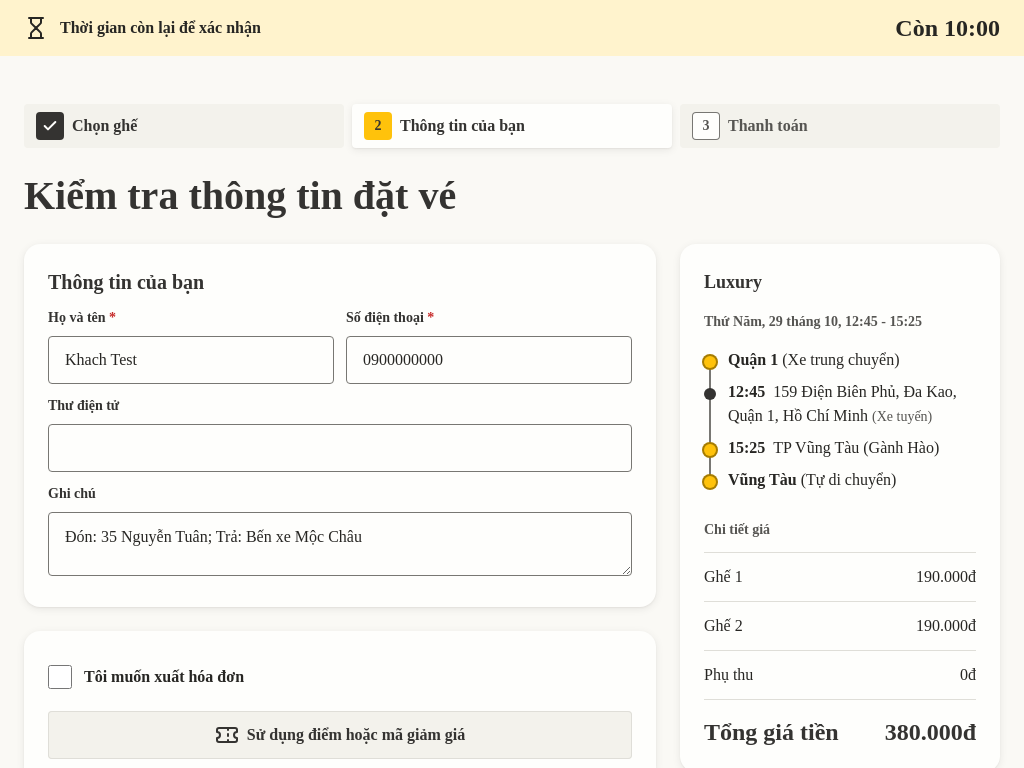
Tự áp mã chương trình ở bước xác nhận › tìm chuyến theo tuyến chính: ghi chú điền sẵn 'Đón: …; Trả: …', khách sửa được
Type " - cổng B" into the text box showing "Đón: 35 Nguyễn Tuân; Trả: Bến xe Mộc Châu" at (340, 544), box [48, 512, 632, 576]
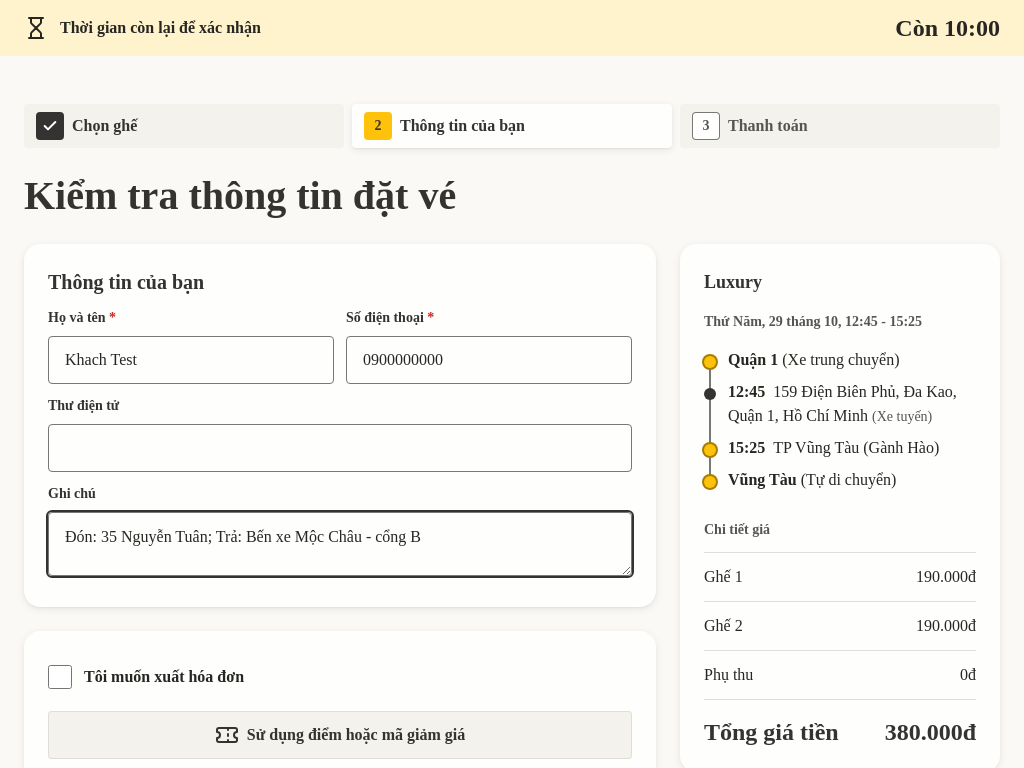
Now the text box showing "Đón: 35 Nguyễn Tuân; Trả: Bến xe Mộc Châu" holds "Đón: 35 Nguyễn Tuân; Trả: Bến xe Mộc Châu - cổng B", box [48, 512, 632, 576]
